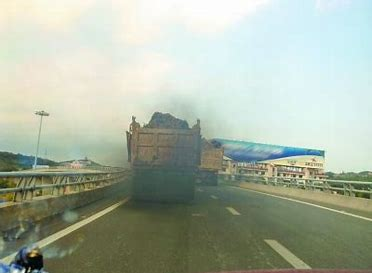smoke: (127, 145, 226, 213)
